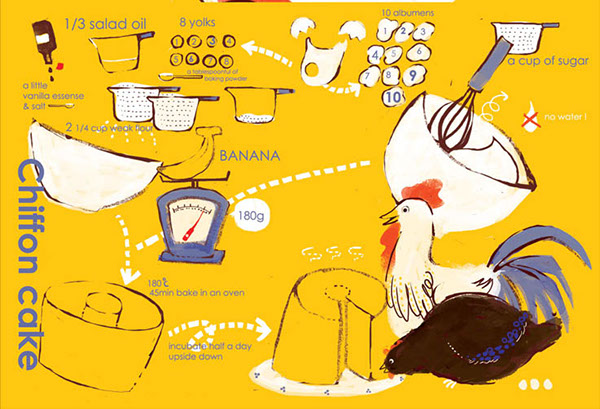bird: (358, 181, 589, 391)
